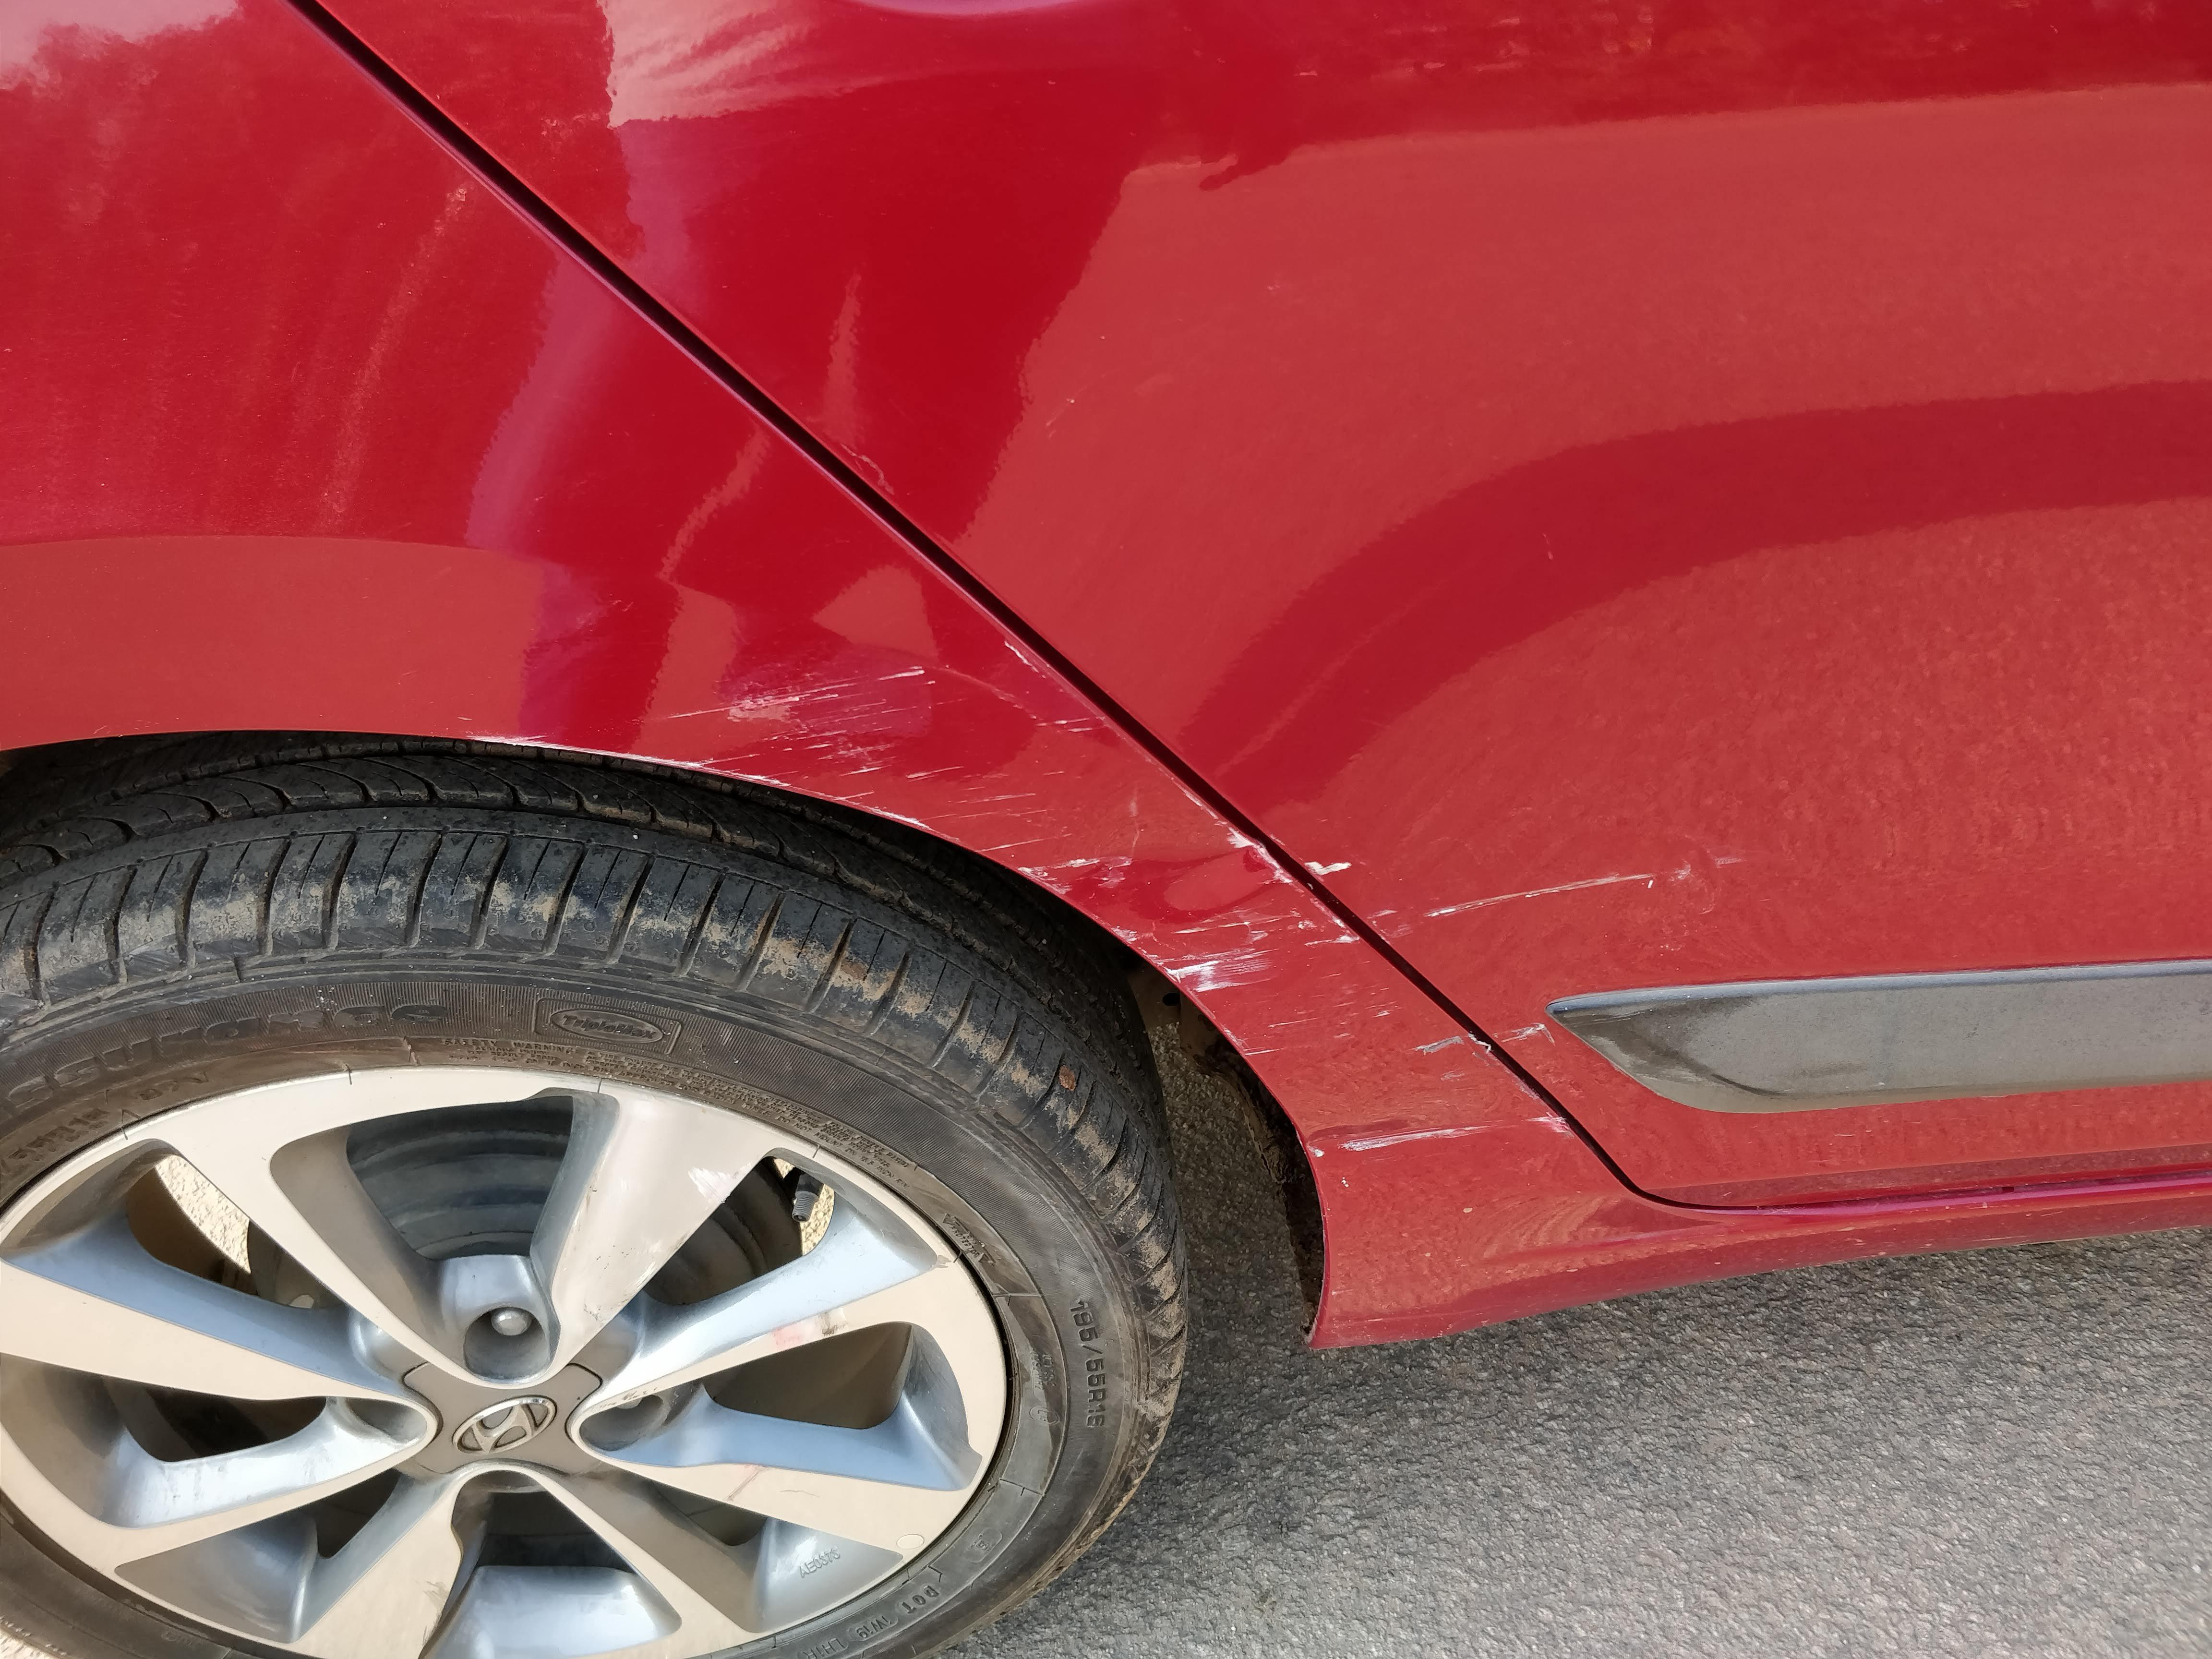quaterpanel-dent: (0, 380, 1367, 1577)
